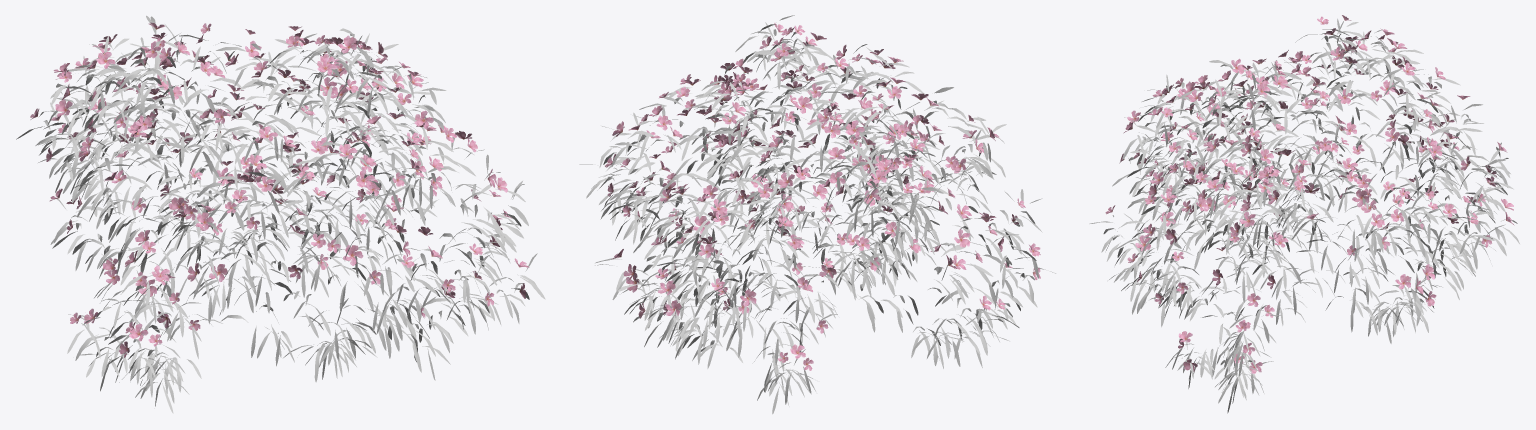
File: MESH_BS09_NeriumOleander_Y_LOD1.fbx
3 views of the same model, side by side, from view 1: azimuth 30°, elevation 25°; view 2: azimuth 150°, elevation 25°; view 3: azimuth 270°, elevation 25° (orthographic). The views are drawn at different scales.
Parts seen in each view (by area): view 1: MI_LOD1_001, MI_LOD1_002; view 2: MI_LOD1_001, MI_LOD1_002; view 3: MI_LOD1_001, MI_LOD1_002.
Boxes of the visible parts, x1,y1,x2,y2 form: MI_LOD1_001: [16, 15, 545, 413]; MI_LOD1_002: [30, 22, 529, 357]; MI_LOD1_001: [579, 15, 1055, 414]; MI_LOD1_002: [605, 23, 1040, 370]; MI_LOD1_001: [1089, 18, 1519, 413]; MI_LOD1_002: [1105, 15, 1514, 373].
Size of what is drawn, in the model's own units: 256 by 197 by 250.
